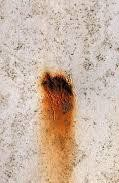Corrosion: (38, 70, 76, 183)
